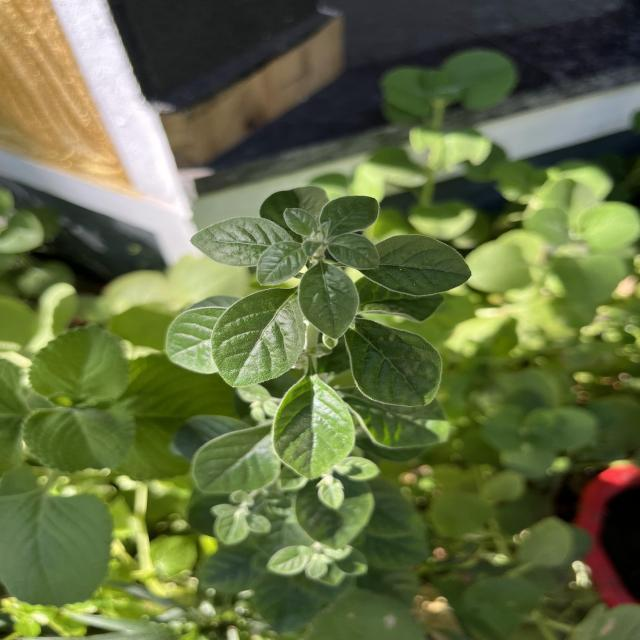Aerva lanata: (208, 284, 308, 390), (342, 316, 445, 409), (360, 232, 474, 298), (186, 216, 295, 270), (296, 262, 362, 342), (317, 193, 382, 240), (254, 240, 309, 288), (328, 232, 382, 272), (282, 206, 320, 240)
